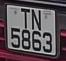3: (41, 30, 53, 55)
5: (10, 26, 22, 51)
6: (31, 30, 43, 53)
8: (21, 29, 32, 51)
N: (31, 8, 43, 32)
T: (20, 5, 31, 32)
